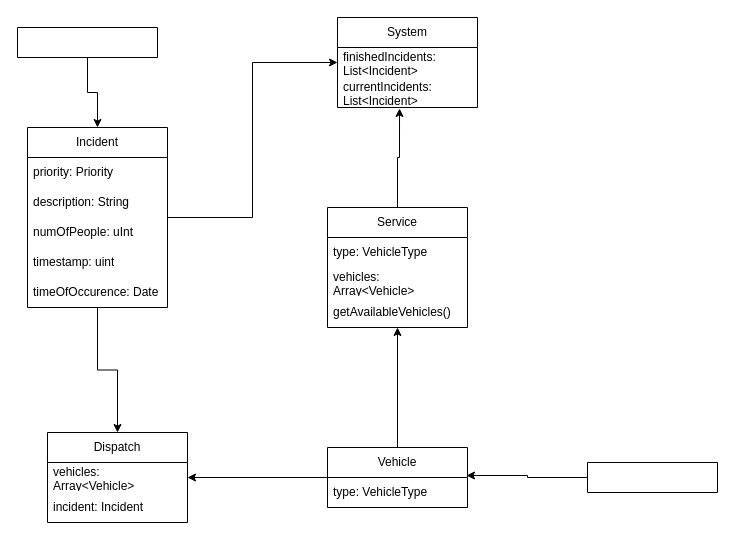
This 735x540 diagram has some shape labels left out. The shapes that lost their labels are listed below. From the top down, each one's centre as x and y in pixels, then its label:
At [87,42]: "<<enumeration>> Priority".
At [652,477]: "<<enumeration>> VehicleType".
